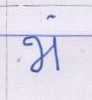anusvara: (48, 15, 54, 19)
